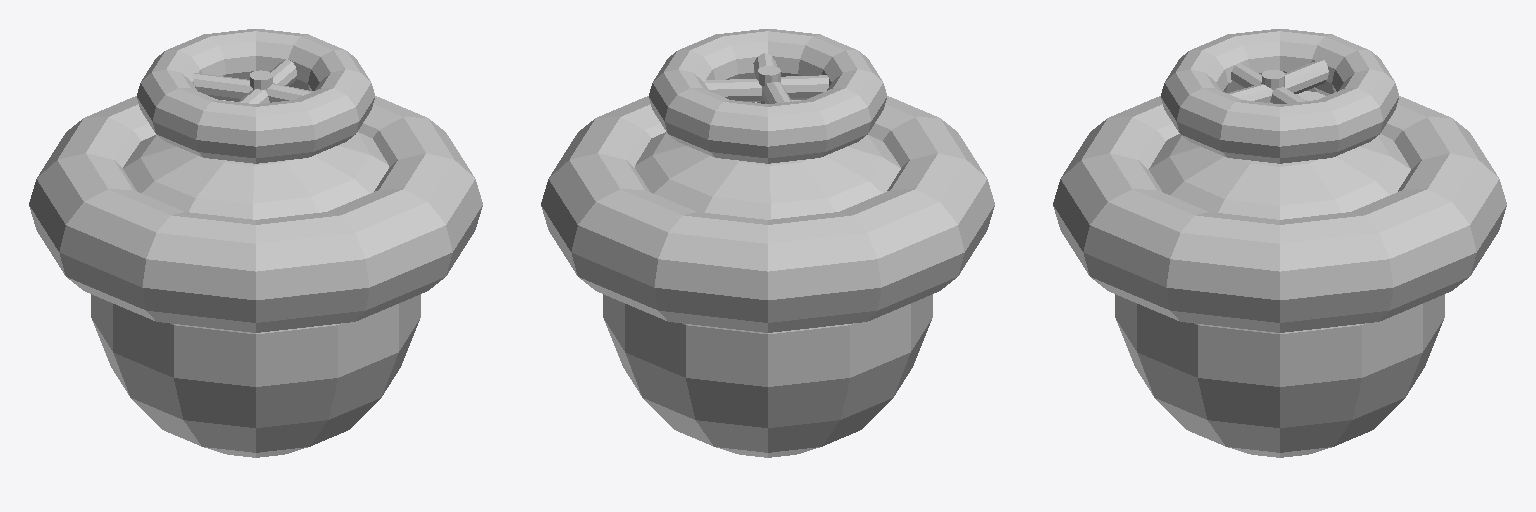
Rendered from hatch.obj.
The picture shows the model from 3 angles: view 1: azimuth 30°, elevation 25°; view 2: azimuth 150°, elevation 25°; view 3: azimuth 270°, elevation 25°; orthographic projection.
Bounding box in the file's own units: 0.19 × 0.1725 × 0.19.